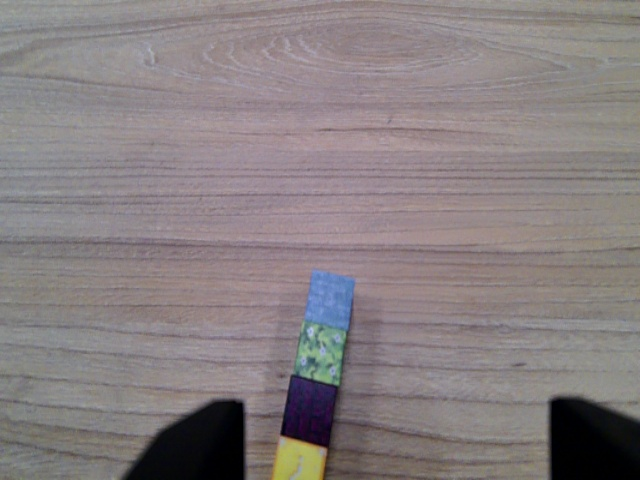brick: (278, 372, 342, 448)
grass: (291, 320, 346, 385)
stone: (299, 266, 353, 327)
